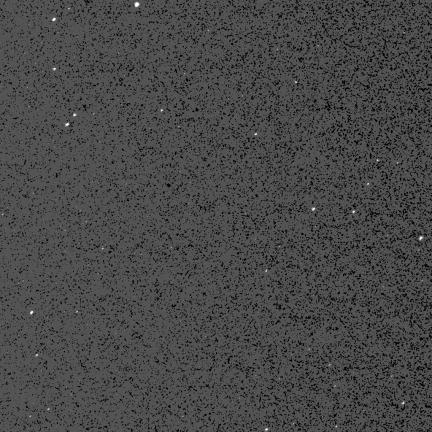blob: (135, 2, 139, 7), (312, 208, 316, 212), (53, 68, 57, 71), (65, 123, 69, 126), (419, 237, 423, 240), (30, 311, 33, 315), (52, 18, 56, 21), (255, 133, 258, 136), (73, 113, 76, 116), (353, 211, 356, 214)
